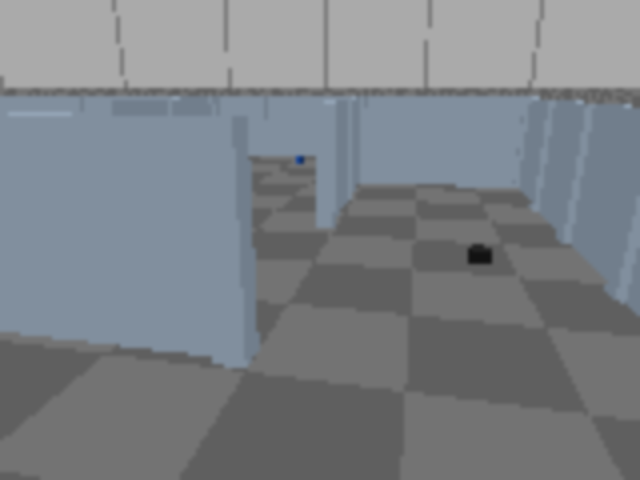puck: (469, 246, 492, 265)
